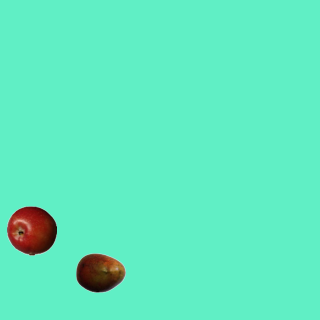Apple Braeburn: (6, 205, 56, 255)
Mango Red: (75, 247, 125, 297)
